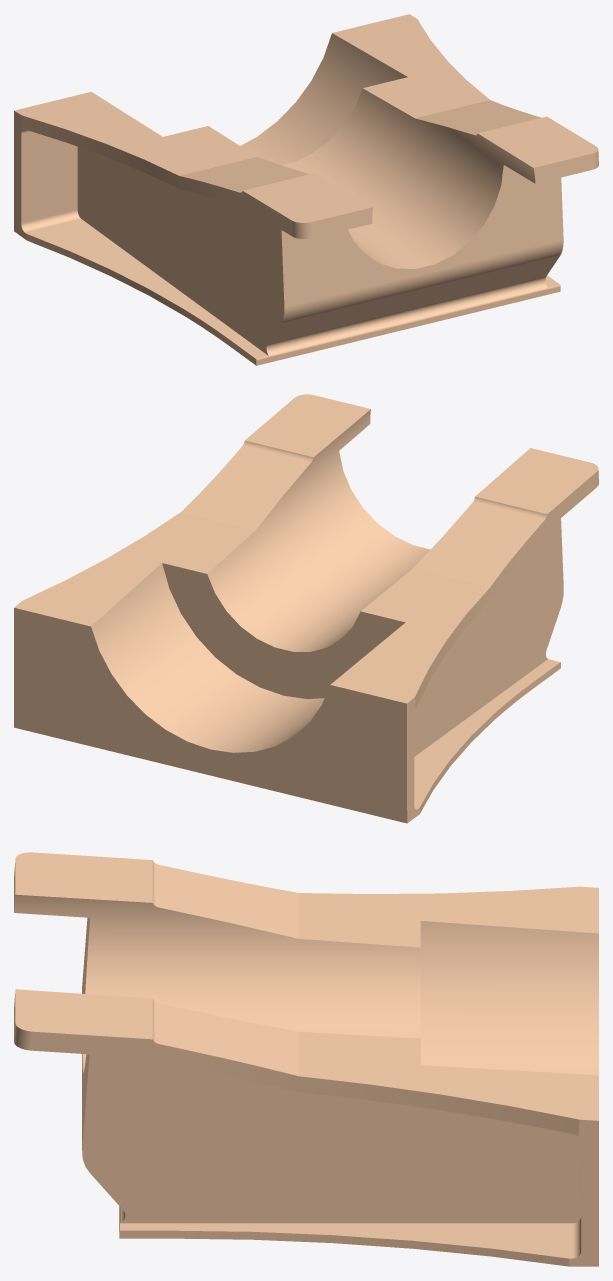
3 renders of one model, top to bottom at view 1: azimuth 30°, elevation 25°; view 2: azimuth 150°, elevation 25°; view 3: azimuth 270°, elevation 25°, orthographic. The views are drawn at different scales.
Visible parts, largest first — view 1: 0C6E641F3DC18749666DF3C59C03E7384C05AFCA|:|3729C2692D92_4369; view 2: 0C6E641F3DC18749666DF3C59C03E7384C05AFCA|:|3729C2692D92_4369; view 3: 0C6E641F3DC18749666DF3C59C03E7384C05AFCA|:|3729C2692D92_4369.
Part boxes in pixels (x1,y1,x2,y2): 0C6E641F3DC18749666DF3C59C03E7384C05AFCA|:|3729C2692D92_4369: (14,14,598,365); 0C6E641F3DC18749666DF3C59C03E7384C05AFCA|:|3729C2692D92_4369: (14,394,598,823); 0C6E641F3DC18749666DF3C59C03E7384C05AFCA|:|3729C2692D92_4369: (14,852,598,1266).
Bounding box in the file's own units: 316 × 131 × 335.
